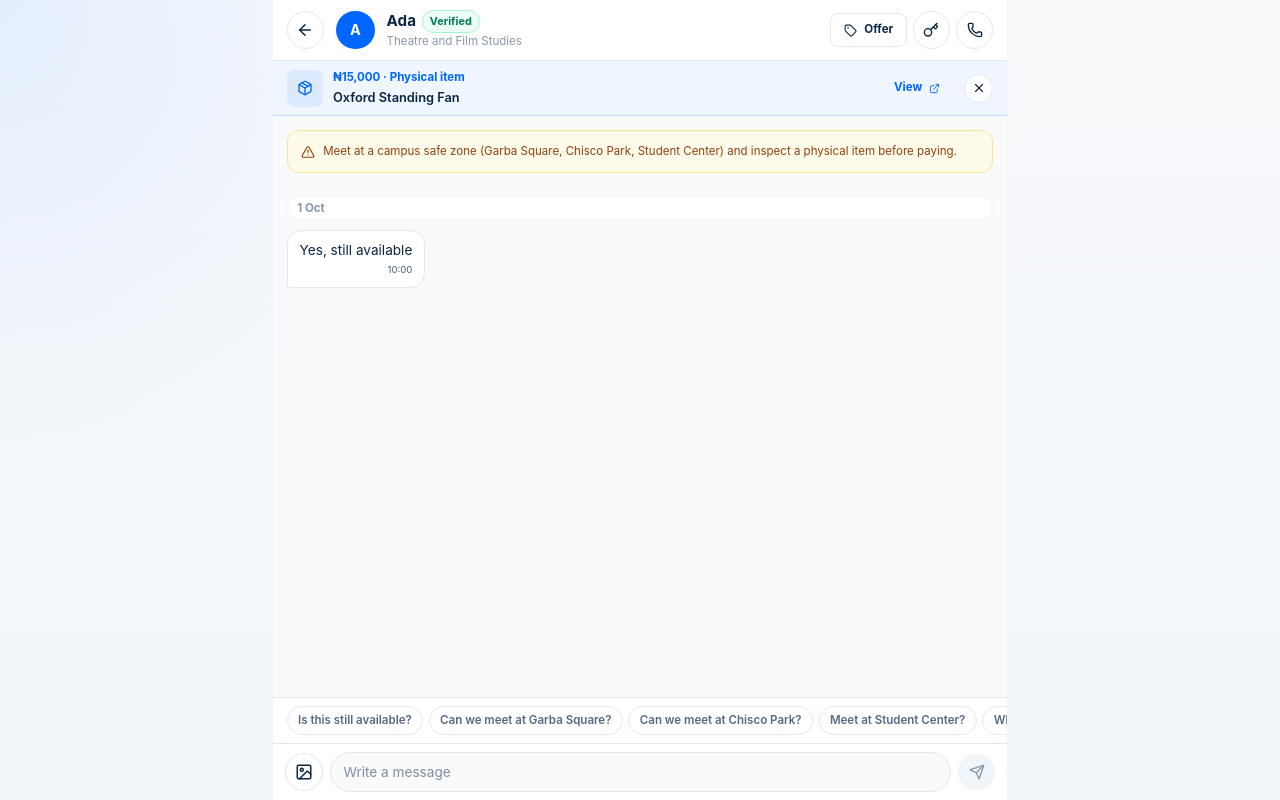
Scenario: Conversation screen › keeps the offer sheet behind a button
Click the button "Offer" at (869, 30), box top-left (830, 13), bottom-right (907, 47)
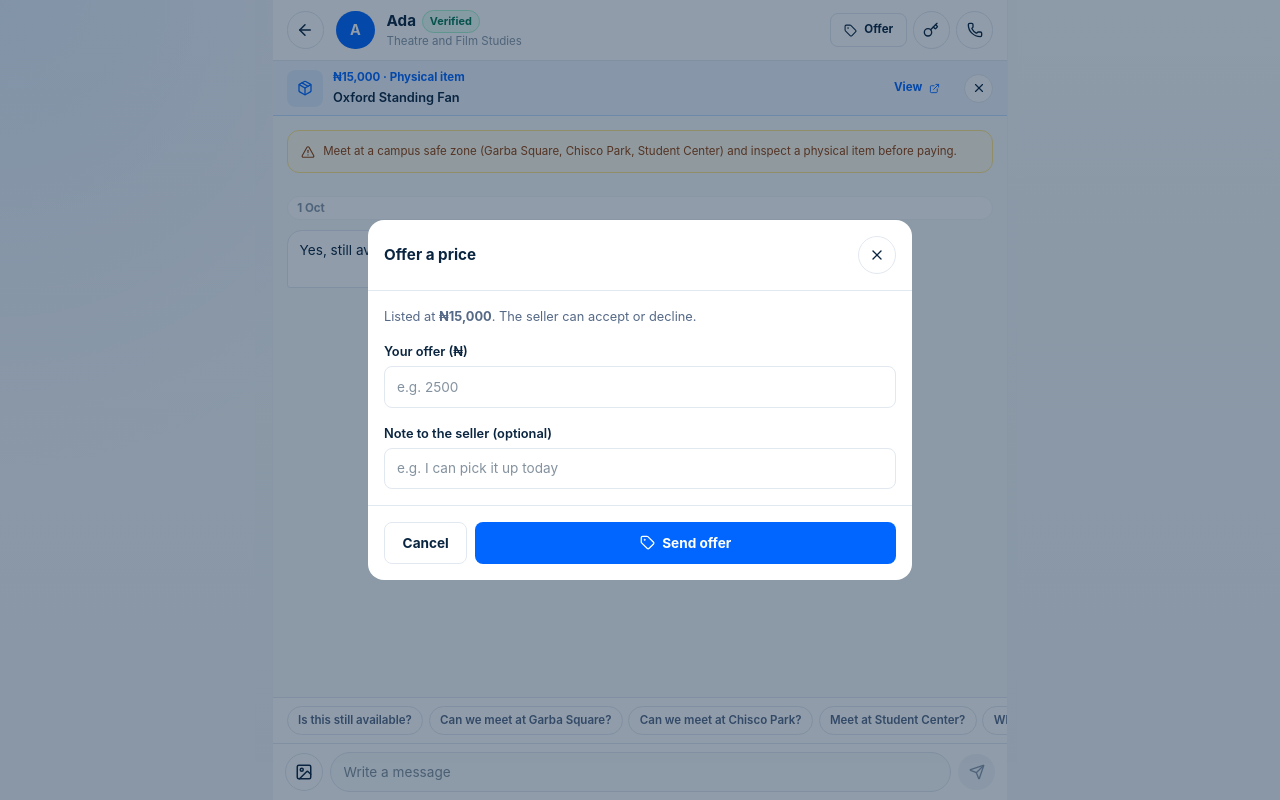
Now the number field labelled "Your offer (₦)" is shown, box top-left (384, 366), bottom-right (896, 408)
Now the button "Send offer" is shown, box top-left (475, 522), bottom-right (896, 564)
